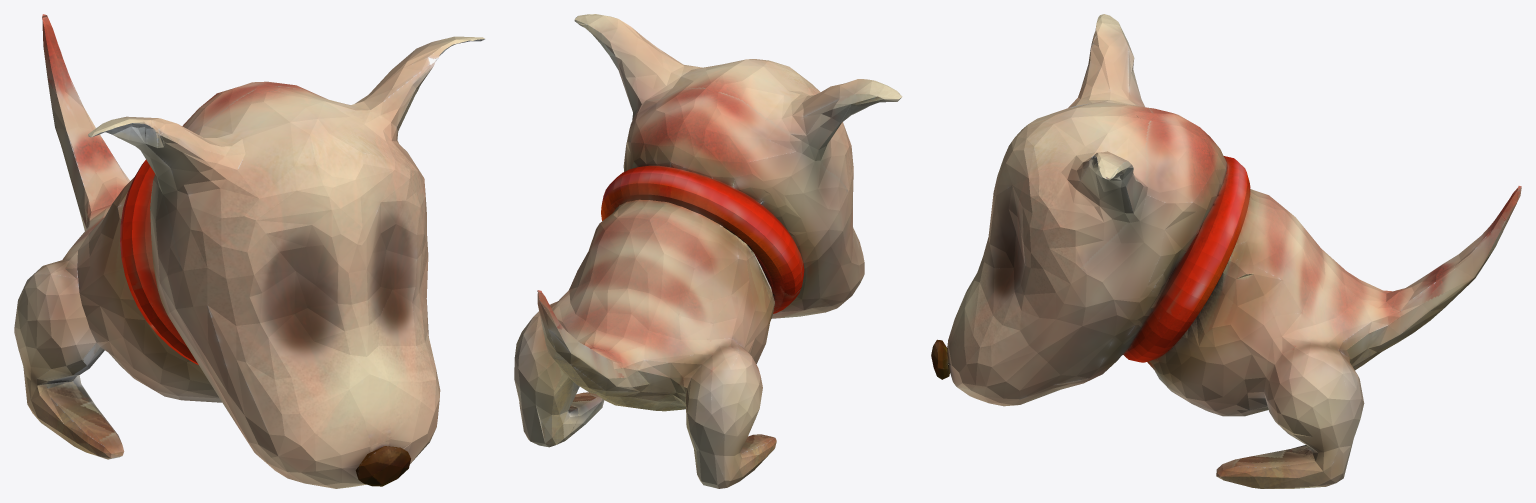
Rendered from sir grogo_low.fbx.
3 views of the same model, side by side, from view 1: azimuth 30°, elevation 25°; view 2: azimuth 150°, elevation 25°; view 3: azimuth 270°, elevation 25° (orthographic). The views are drawn at different scales.
Visible parts, largest first — view 1: Cube.005; view 2: Cube.005; view 3: Cube.005.
Part boxes in pixels (x1,y1,x2,y2): Cube.005: [14, 14, 484, 488]; Cube.005: [514, 14, 902, 488]; Cube.005: [931, 14, 1521, 488].
Size of the model in its own units: 303 by 301 by 460.
